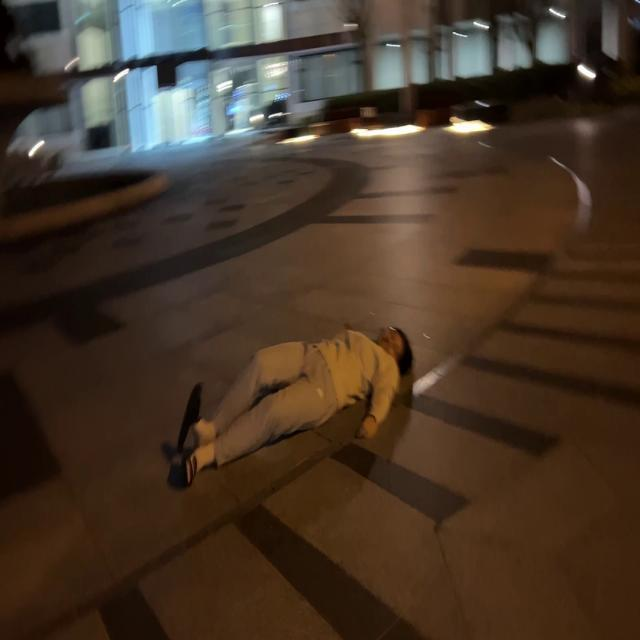Fall: (168, 326, 414, 488)
